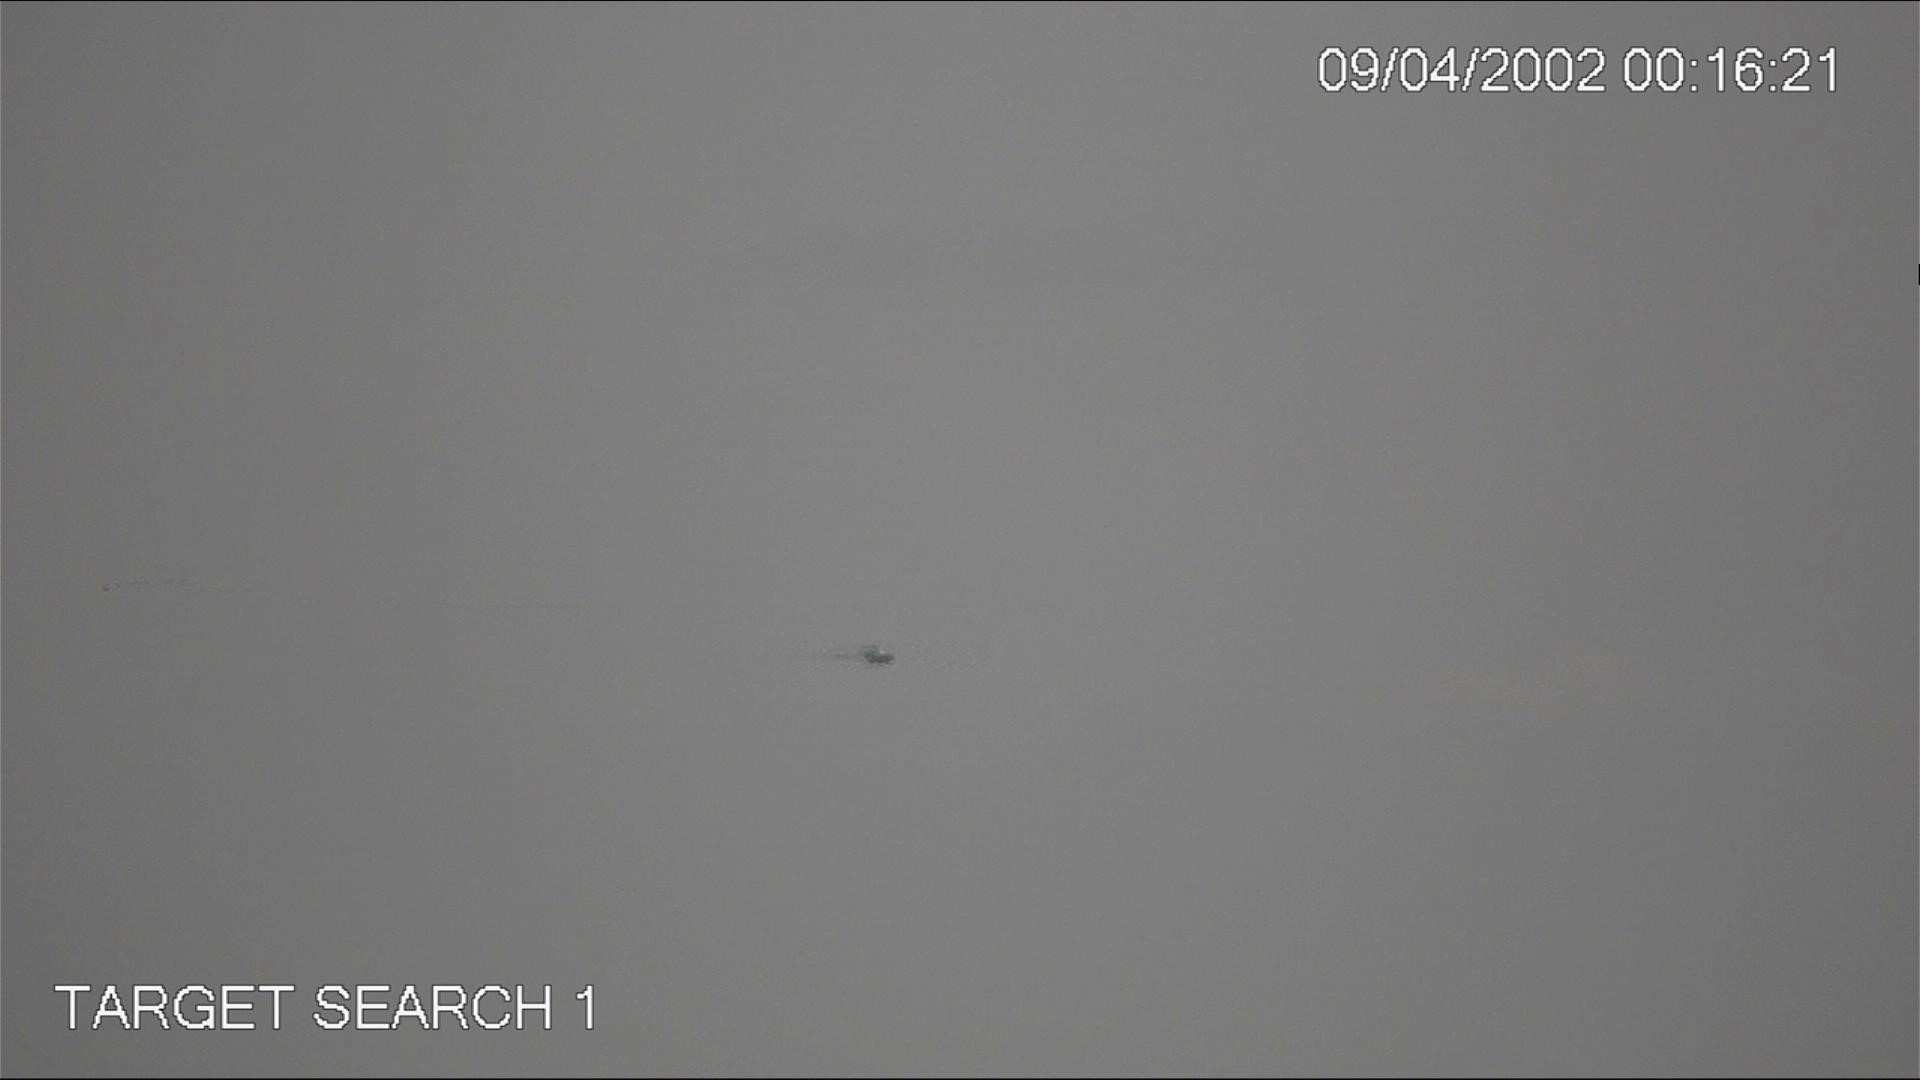SU_30: (862, 642, 897, 665)
